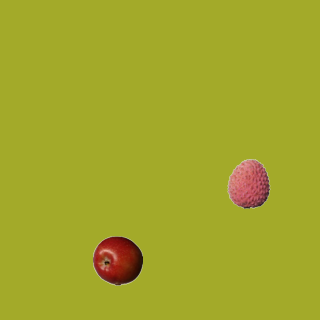Apple Braeburn: (92, 235, 142, 285)
Lychee: (223, 158, 273, 208)
